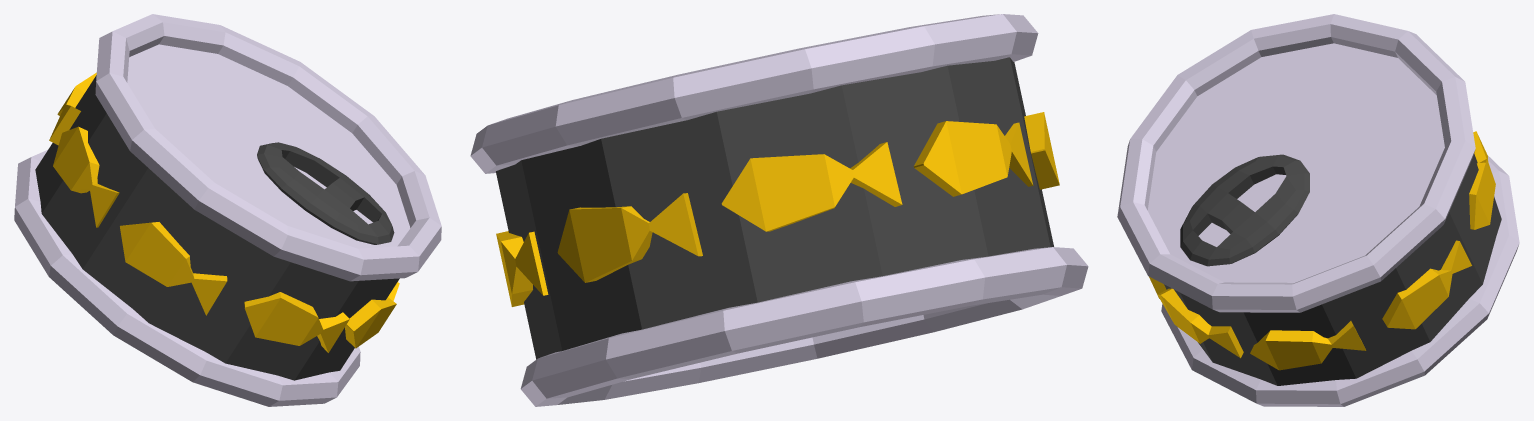
The model's file is Nekokan_rotate.fbx.
The picture shows the model from 3 angles, left to right: view 1: azimuth 30°, elevation 25°; view 2: azimuth 150°, elevation 25°; view 3: azimuth 270°, elevation 25°; orthographic projection. The views are drawn at different scales.
Visible parts, largest first — view 1: 円柱.003; view 2: 円柱.003; view 3: 円柱.003.
Part boxes in pixels (<box>): 円柱.003: <box>14,14,441,406</box>; 円柱.003: <box>470,14,1088,406</box>; 円柱.003: <box>1117,14,1519,406</box>.
Bounding box in the file's own units: 11.71 × 9.71 × 11.66.
